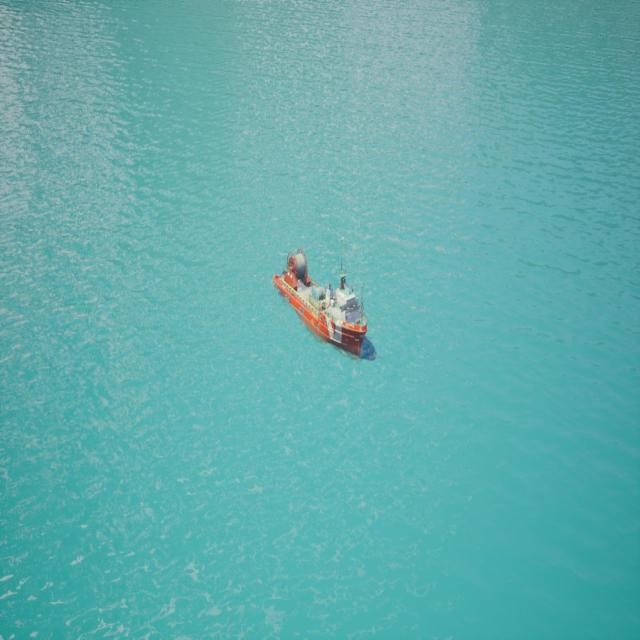tug boat: (274, 268, 373, 359)
